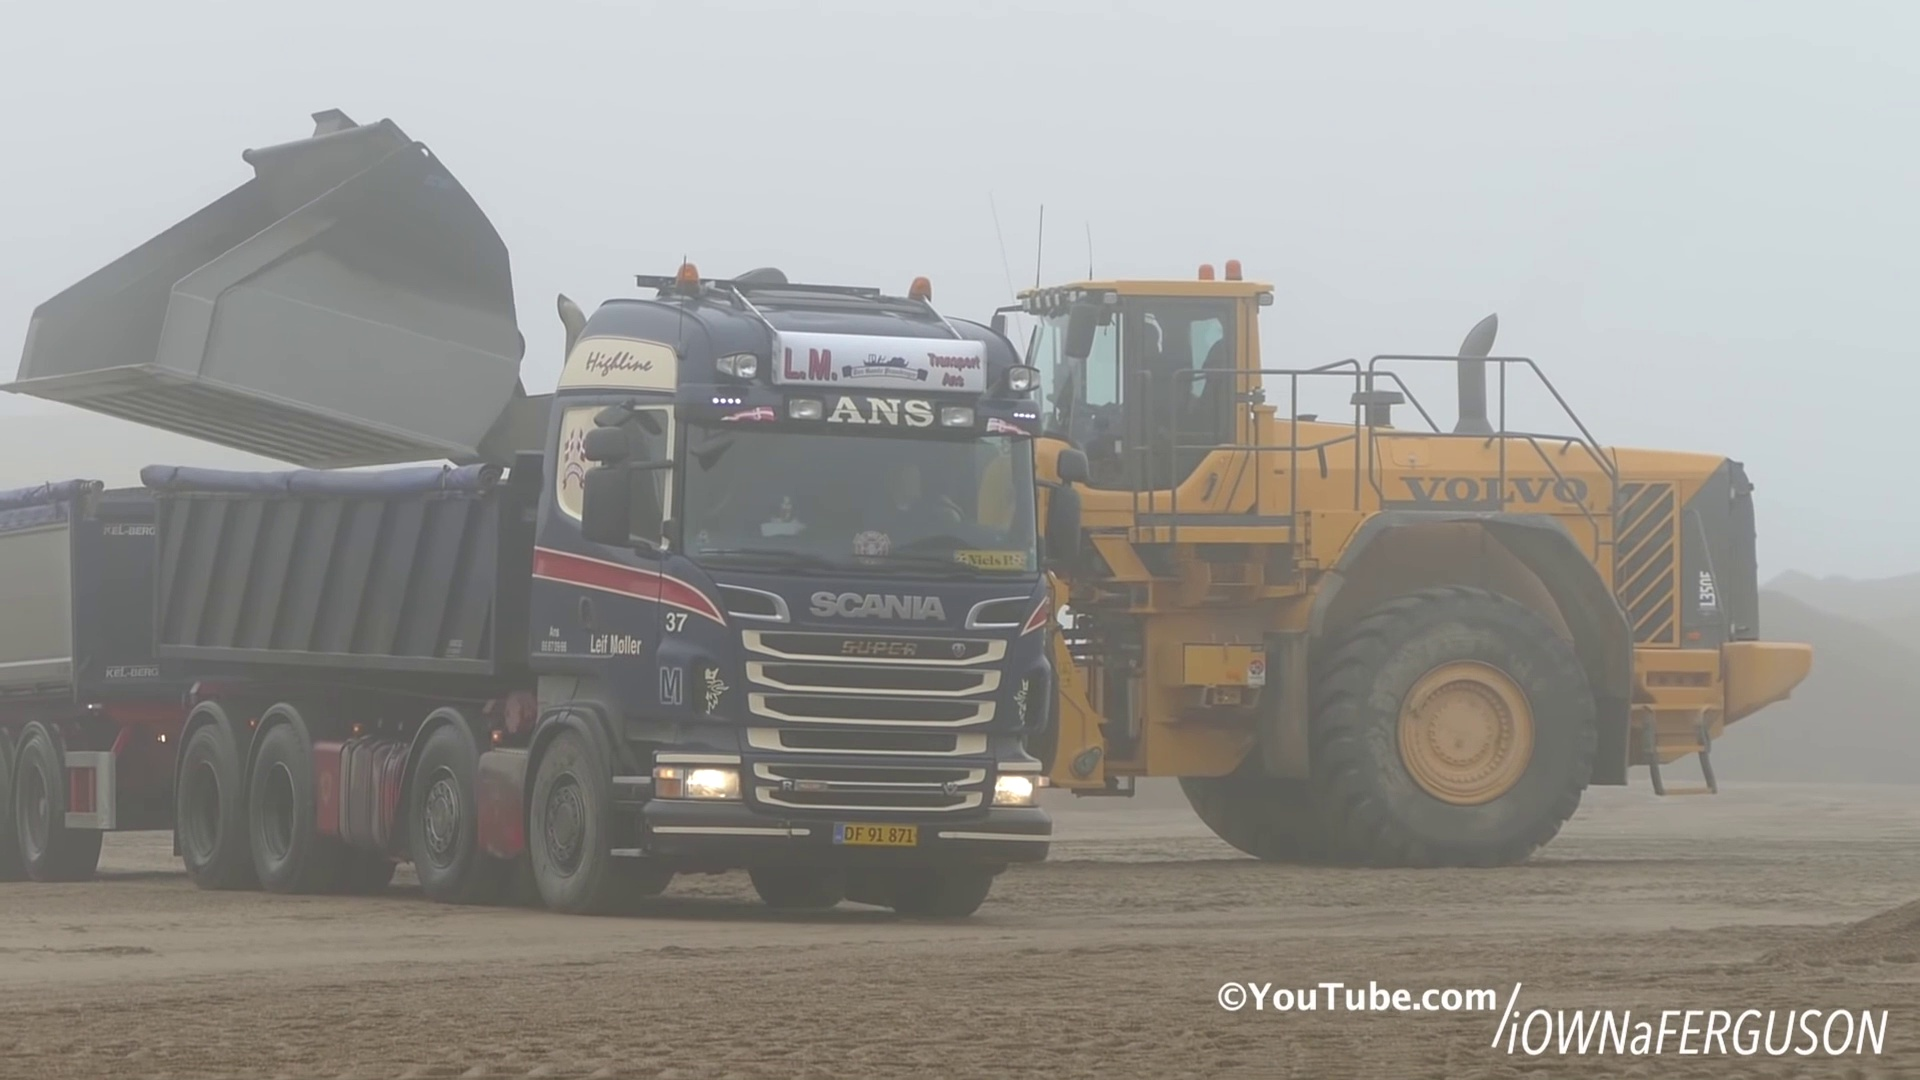truck: (3, 255, 1065, 920)
wheel loader: (7, 105, 1816, 865)
